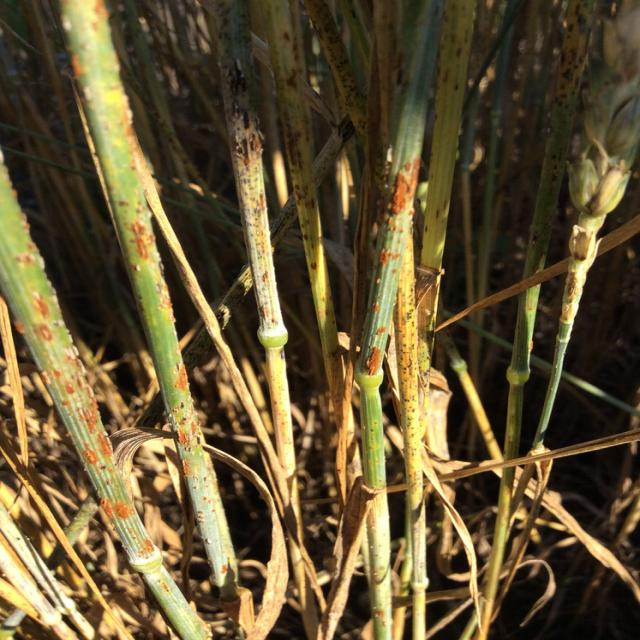wheat-stemrust: (6, 229, 177, 611), (98, 67, 218, 497), (354, 124, 428, 413)
